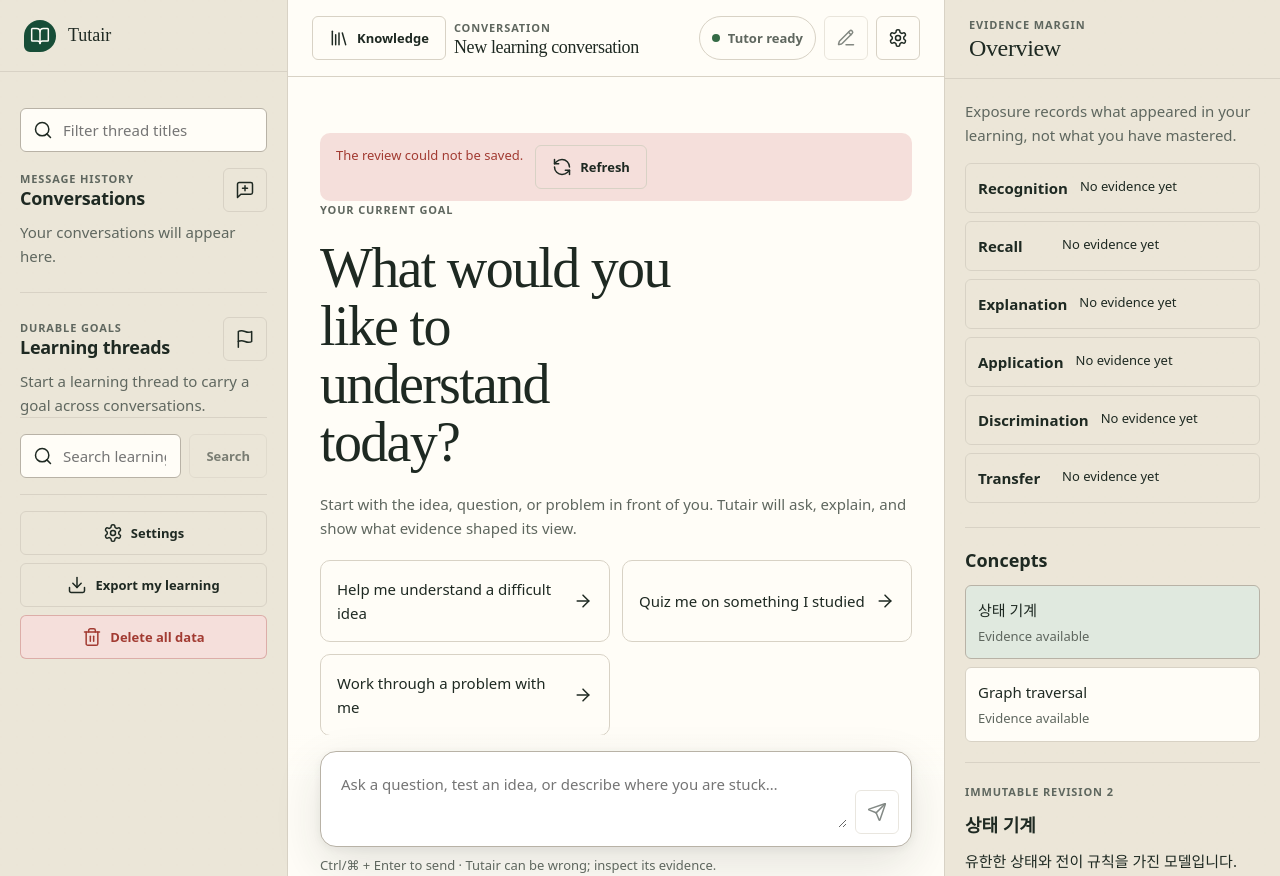
Test: knowledge manager › reports an inline review failure without losing the selected definition
Click the button with aria-label "Manage knowledge".
click(379, 38)  # box [312, 16, 446, 60]
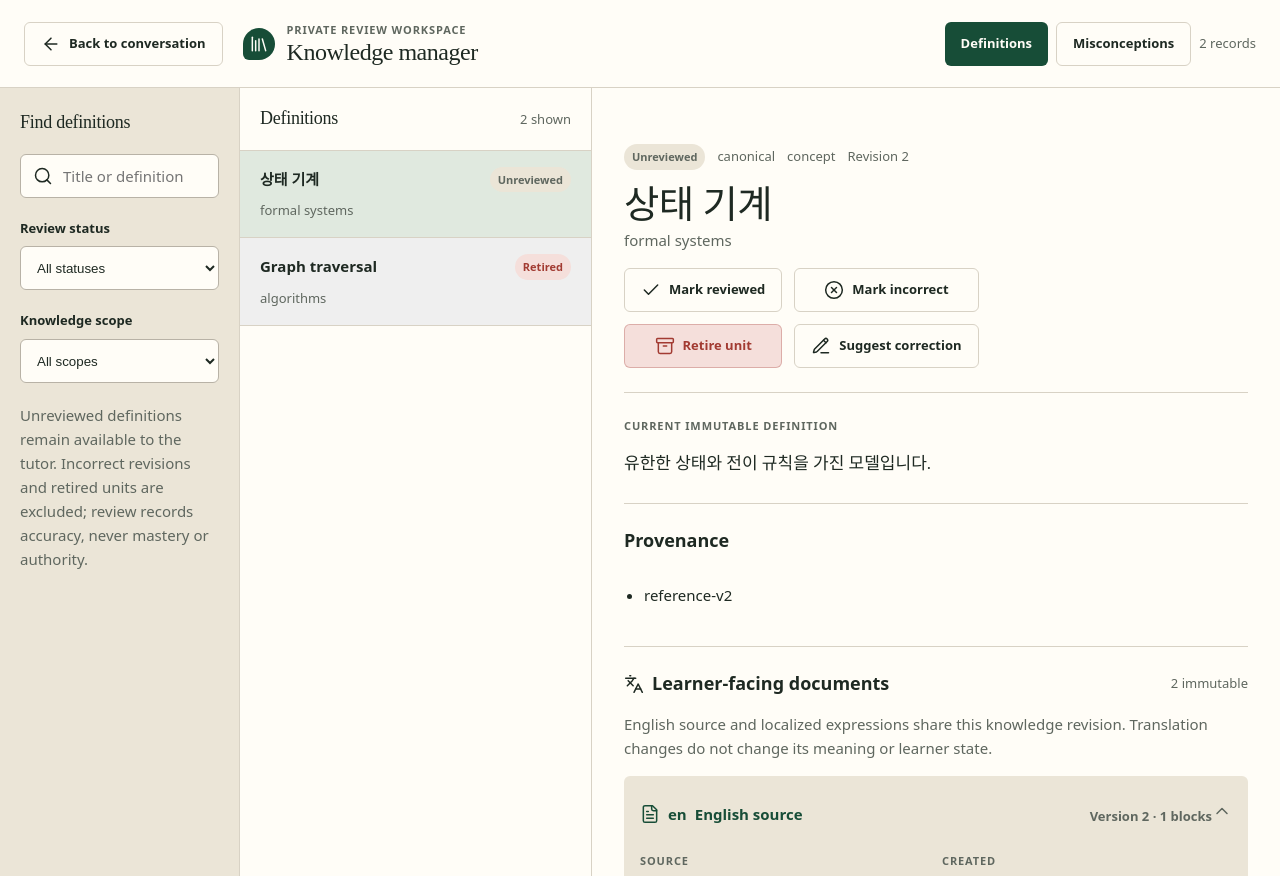
Click the button "Mark reviewed".
click(703, 290)  # box [624, 268, 782, 312]
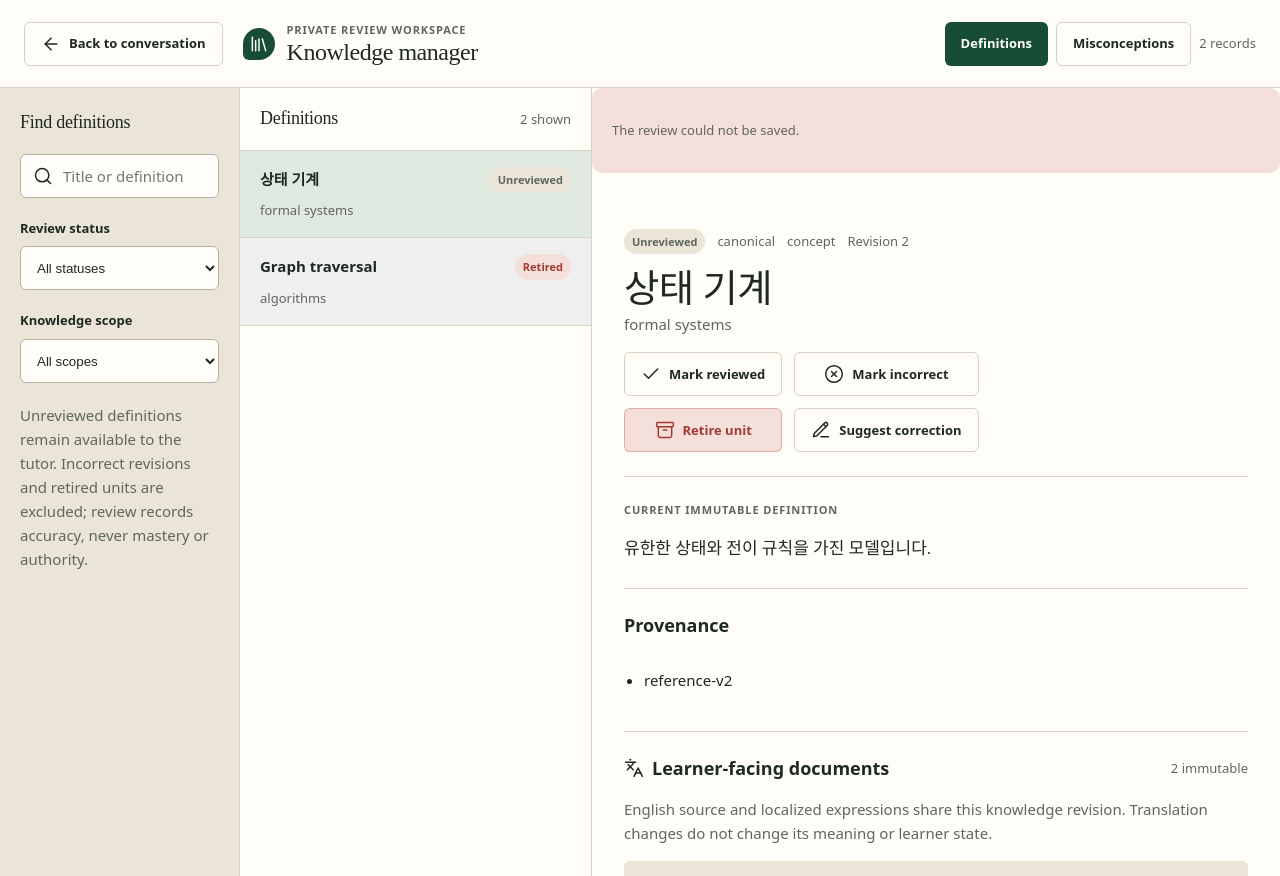
Expected: the button "Mark reviewed" is enabled, [624, 352, 782, 396]
Now the heading "상태 기계" is shown, box [624, 268, 772, 310]
Now the message shows "could not be saved", box [612, 121, 799, 139]
